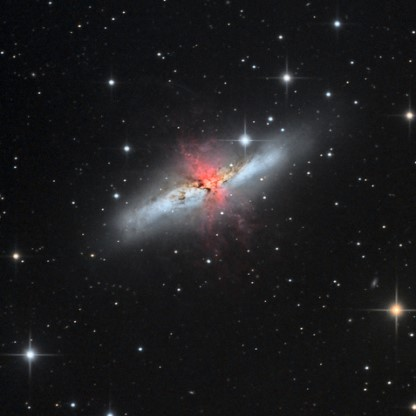Messier 82: (98, 112, 335, 253)
